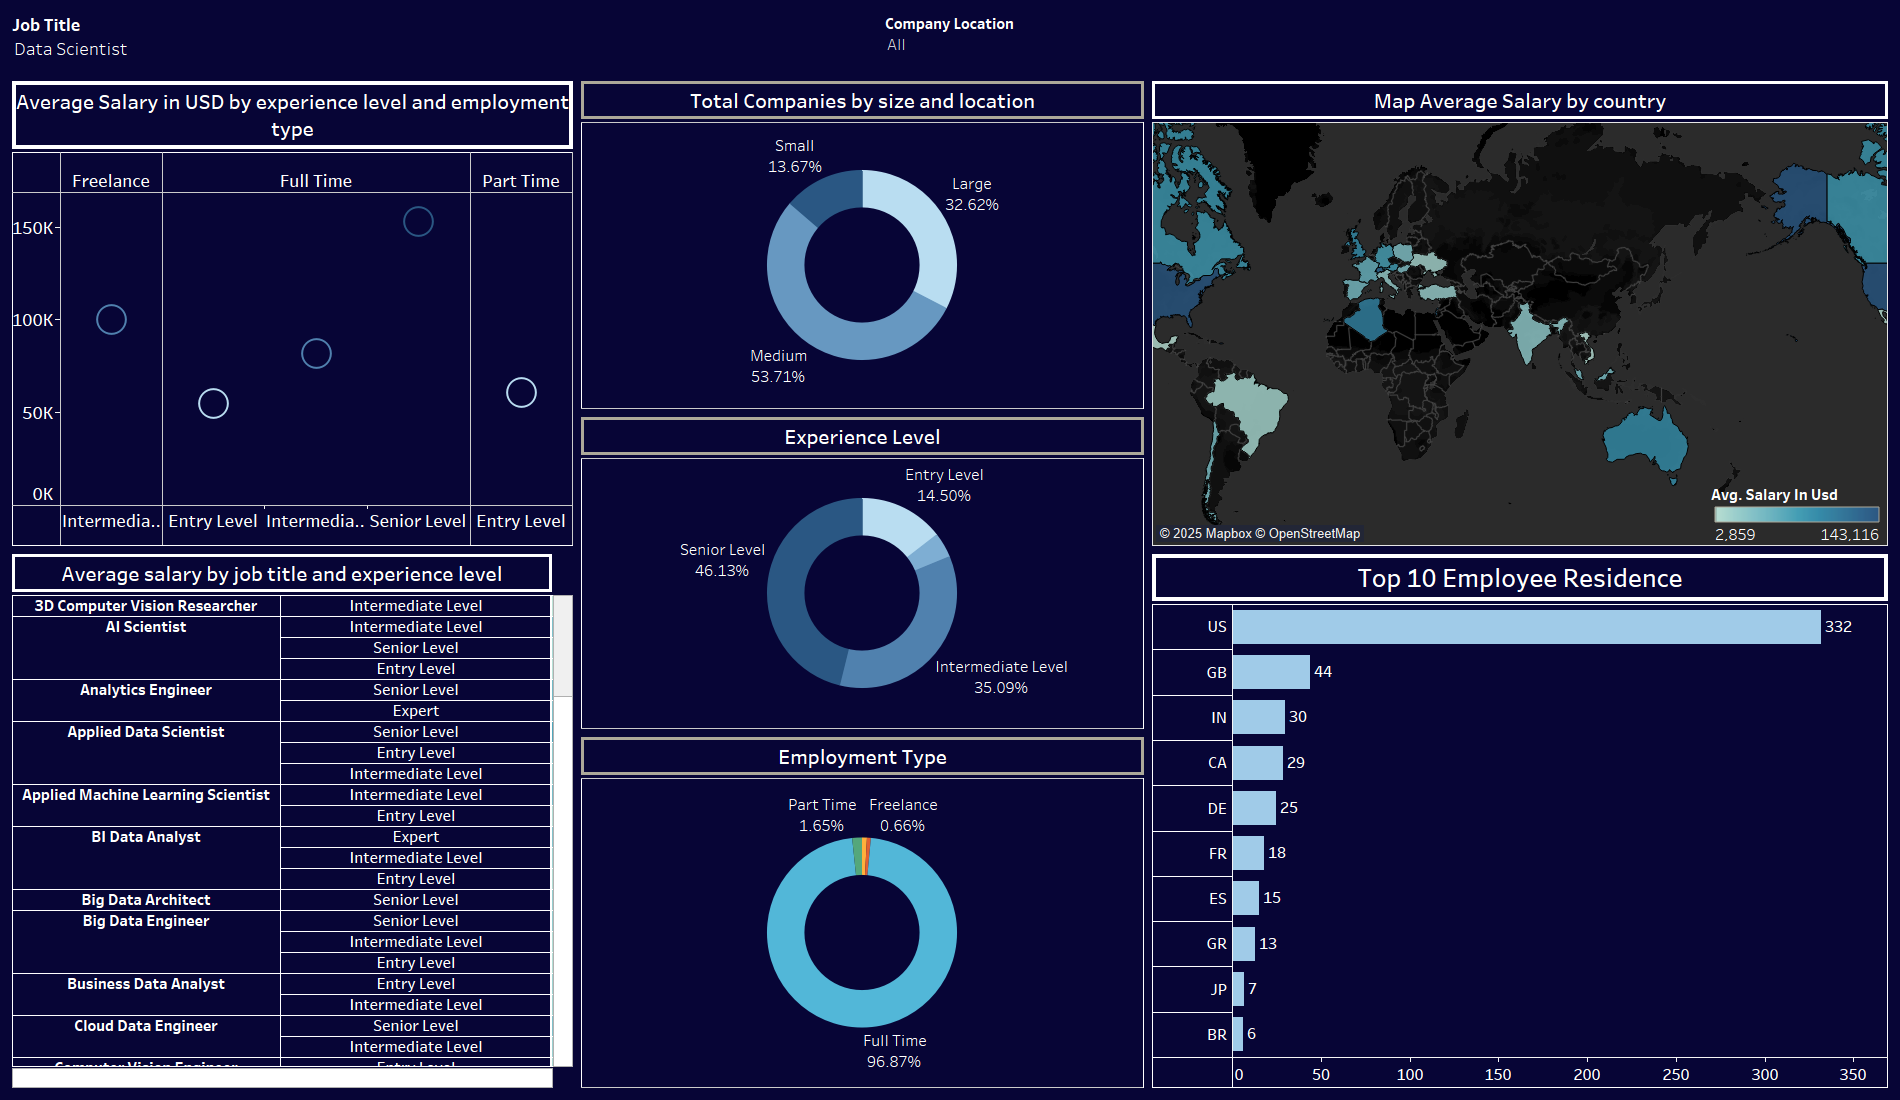

This screenshot's page, from the dashboard's own definition file:
{"tool":"tableau","page":{"name":"Global Data Science Salaries Dashboard","canvas":[1900,1100],"ordinal":0},"visuals":[{"type":"filter","title":"Average Salary in USD by experience level and employment type","param":"[federated.0h7x4bu1uwdv6r17jn5jj0bgqqvn].[none:job_title:nk]","box":[8,8,872.9,68.7]},{"type":"filter","title":"Total Companies by size and location","param":"[federated.0h7x4bu1uwdv6r17jn5jj0bgqqvn].[none:company_location:nk]","box":[880.9,8,1011.1,61]},{"type":"worksheet","title":"Average Salary in USD by experience level and employment type","mark":"Shape","rows":["salary_in_usd"],"cols":["employment_type","experience_level"],"box":[8,76.7,569,473.3]},{"type":"worksheet","title":"Total Companies by size and location","mark":"Pie","rows":["Calculation_1867023529765371905","Calculation_1867023529765371905"],"box":[577,76.7,571,336.3]},{"type":"worksheet","title":"Map Average Salary by country","mark":"Automatic","box":[1148,76.7,744,473.3]},{"type":"worksheet","title":"Experience Level","mark":"Pie","rows":["Calculation_1867023529765371905","Calculation_1867023529765371905"],"box":[577,413,571,320]},{"type":"legend","title":"Map Average Salary by country","param":"[federated.0h7x4bu1uwdv6r17jn5jj0bgqqvn].[avg:salary_in_usd:qk]","box":[1711,480,173,61]},{"type":"worksheet","title":"Average salary by job title and experience level","mark":"Square","rows":["job_title","experience_level"],"box":[8,550,569,542]},{"type":"worksheet","title":"Top 10 Employee Residence","mark":"Automatic","rows":["employee_residence"],"cols":["employee_residence"],"box":[1148,550,744,542]},{"type":"worksheet","title":"Employment Type","mark":"Pie","rows":["Calculation_1867023529765371905","Calculation_1867023529765371905"],"box":[577,733,571,359]}]}

Visuals, with their boxes in screenshot pixels (x1, y1, x2, y2), scaled from the page's 1900x1100 canvas onto the 1900x1100 screenshot:
"Average Salary in USD by experience level and employment type" filter: {"left": 8, "top": 8, "right": 881, "bottom": 77}
"Total Companies by size and location" filter: {"left": 881, "top": 8, "right": 1892, "bottom": 69}
"Average Salary in USD by experience level and employment type" worksheet (Shape marks): {"left": 8, "top": 77, "right": 577, "bottom": 550}
"Total Companies by size and location" worksheet (Pie marks): {"left": 577, "top": 77, "right": 1148, "bottom": 413}
"Map Average Salary by country" worksheet: {"left": 1148, "top": 77, "right": 1892, "bottom": 550}
"Experience Level" worksheet (Pie marks): {"left": 577, "top": 413, "right": 1148, "bottom": 733}
"Map Average Salary by country" legend: {"left": 1711, "top": 480, "right": 1884, "bottom": 541}
"Average salary by job title and experience level" worksheet (Square marks): {"left": 8, "top": 550, "right": 577, "bottom": 1092}
"Top 10 Employee Residence" worksheet: {"left": 1148, "top": 550, "right": 1892, "bottom": 1092}
"Employment Type" worksheet (Pie marks): {"left": 577, "top": 733, "right": 1148, "bottom": 1092}
